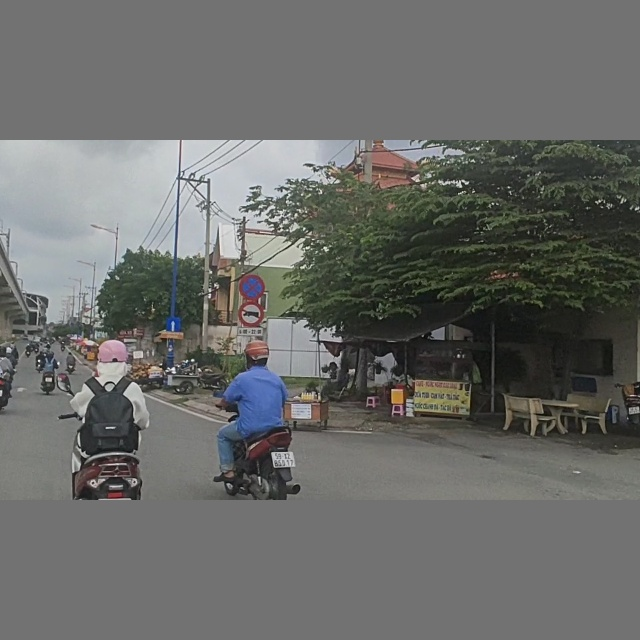B.8a: (239, 302, 264, 327)
I.407a: (166, 316, 183, 333)
P.130: (239, 273, 265, 300)
